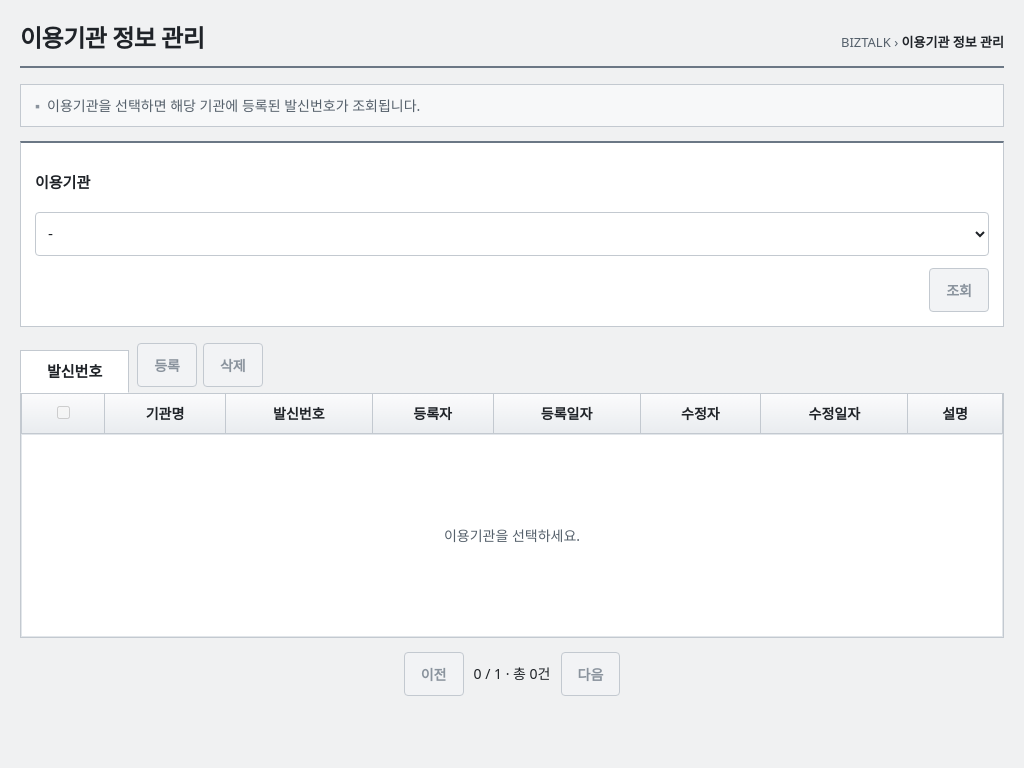
SenderNumberPage › FR-SNDD-009 — 선택은 페이지를 넘어도 유지되고 확인 화면이 전부 열거한다
Select "○○기관 (사용)" in the dropdown labelled "이용기관": (512, 234) [35,212,989,256]
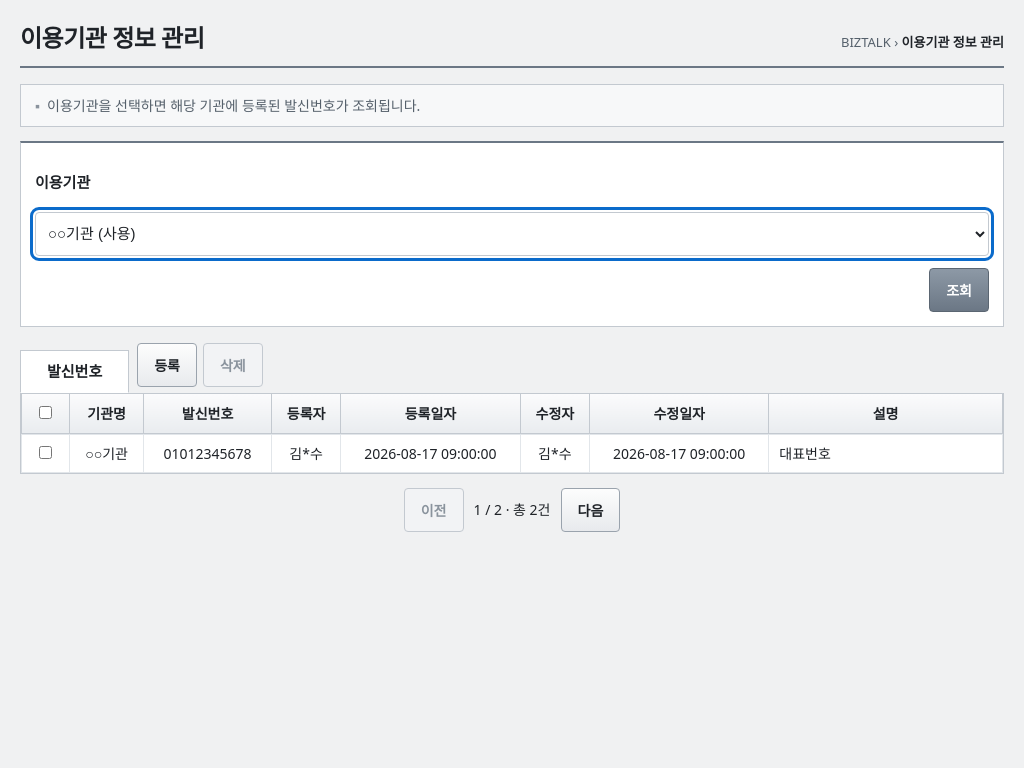
Click the checkbox named "01012345678 선택": (46, 452) [39,446,52,458]
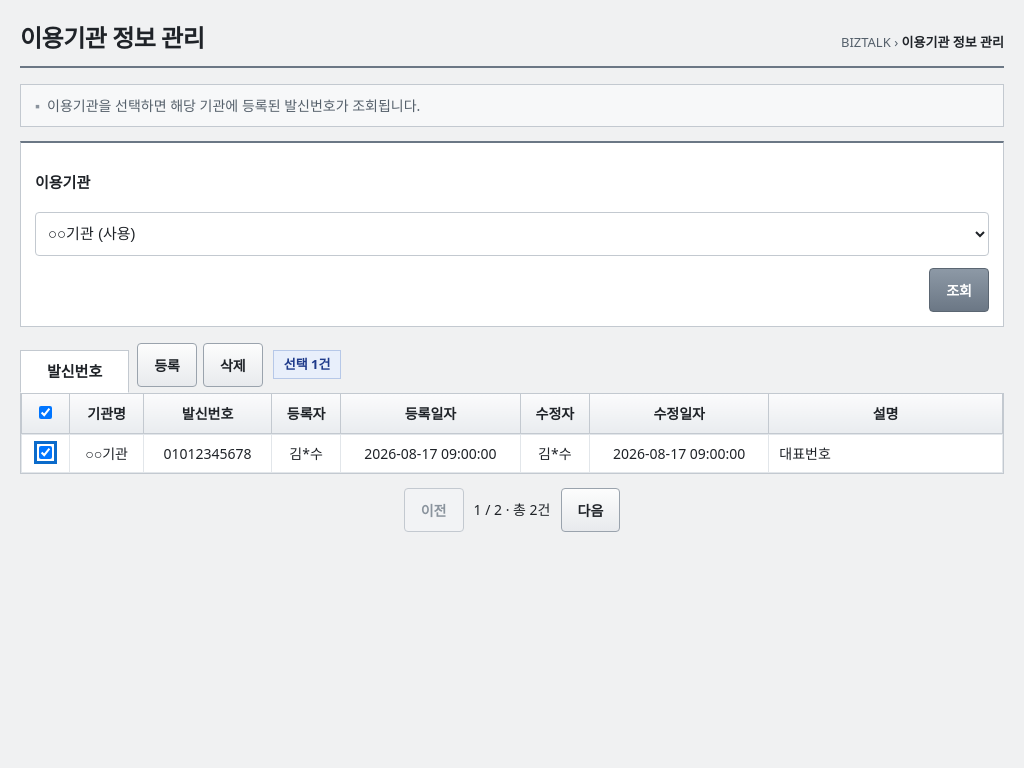
Check: the text with test id "senderno-selected-count" reads "선택 1건", box [273,350,341,379]
Click the button "다음": (590, 510) [560,488,620,532]
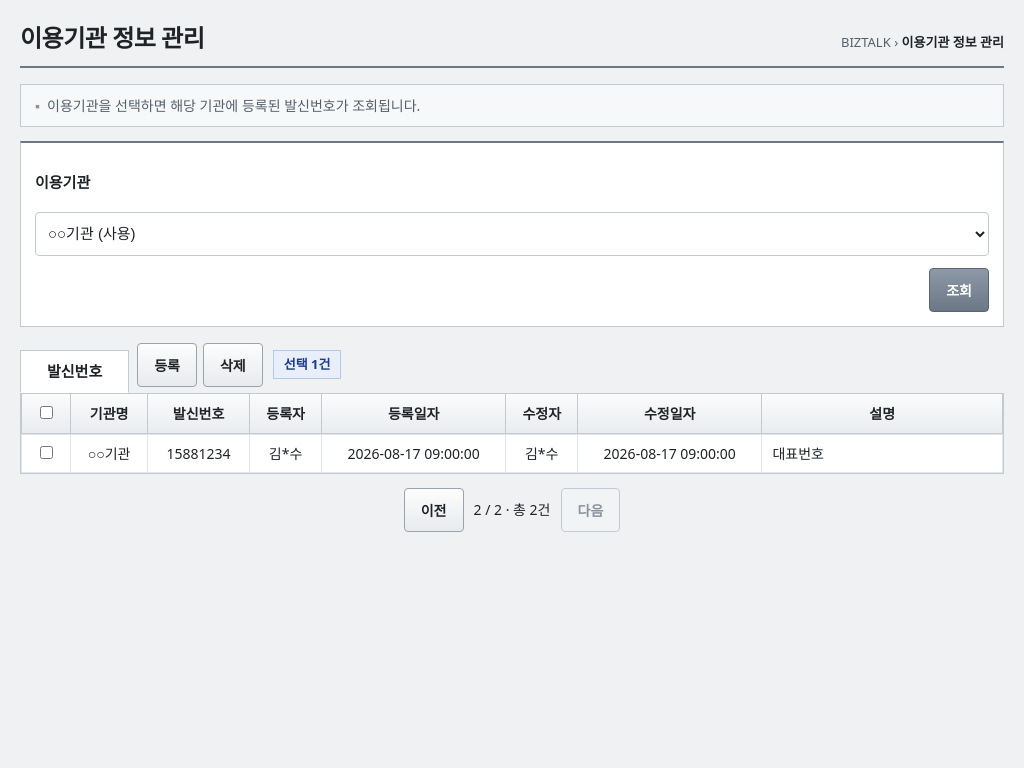
Check: the text with test id "senderno-selected-count" reads "선택 1건", box [273,350,341,379]
Check: the checkbox named "15881234 선택" is shown
Click the checkbox named "15881234 선택": (47, 452) [40,446,53,458]
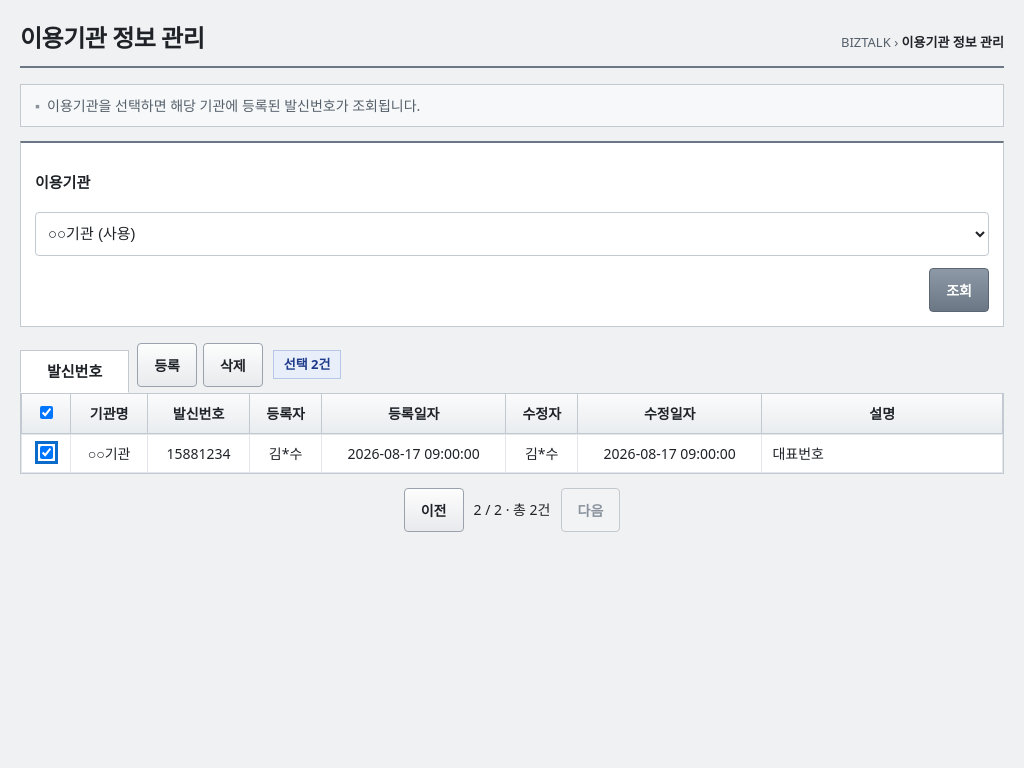
Check: the text with test id "senderno-selected-count" reads "선택 2건", box [273,350,341,379]
Click the button "삭제": (233, 364) [203,342,263,386]
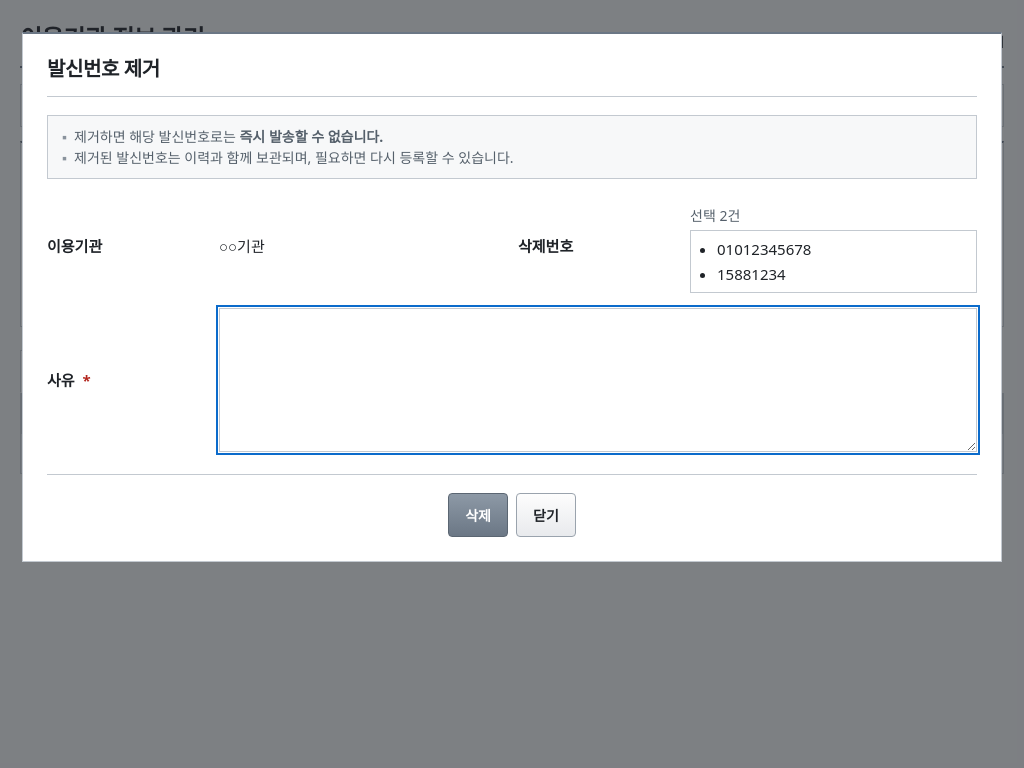
Check: the list item "01012345678" is shown, box [717,239,811,259]
Check: the list item "15881234" is shown, box [717,264,786,284]
Check: the text with test id "senderno-delete-count" reads "선택 2건", box [690,206,740,225]
